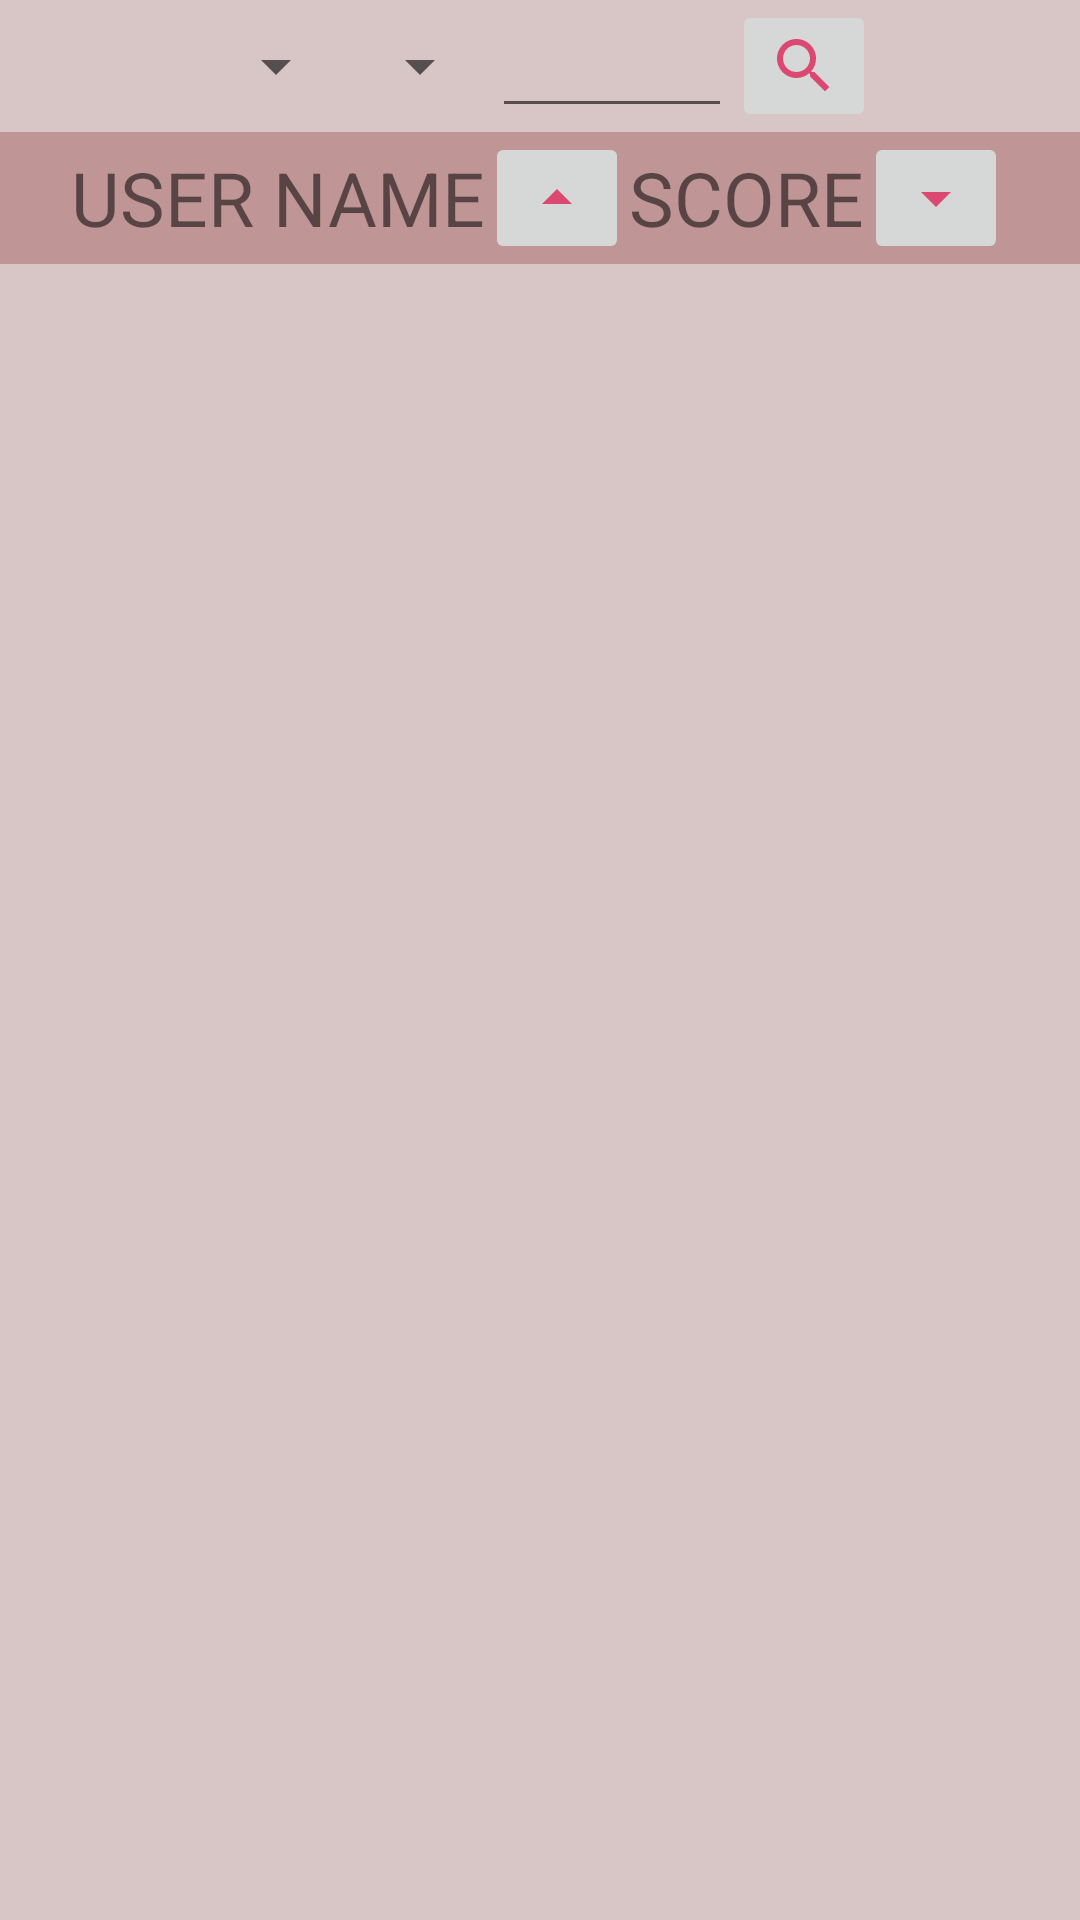

Screen size 1080*1920. Icon name, then its box in pixels as (x1, y1, x2, y2):
arrow down: (876, 150, 996, 246)
arrow up: (497, 150, 617, 246)
search lens: (744, 18, 864, 114)
